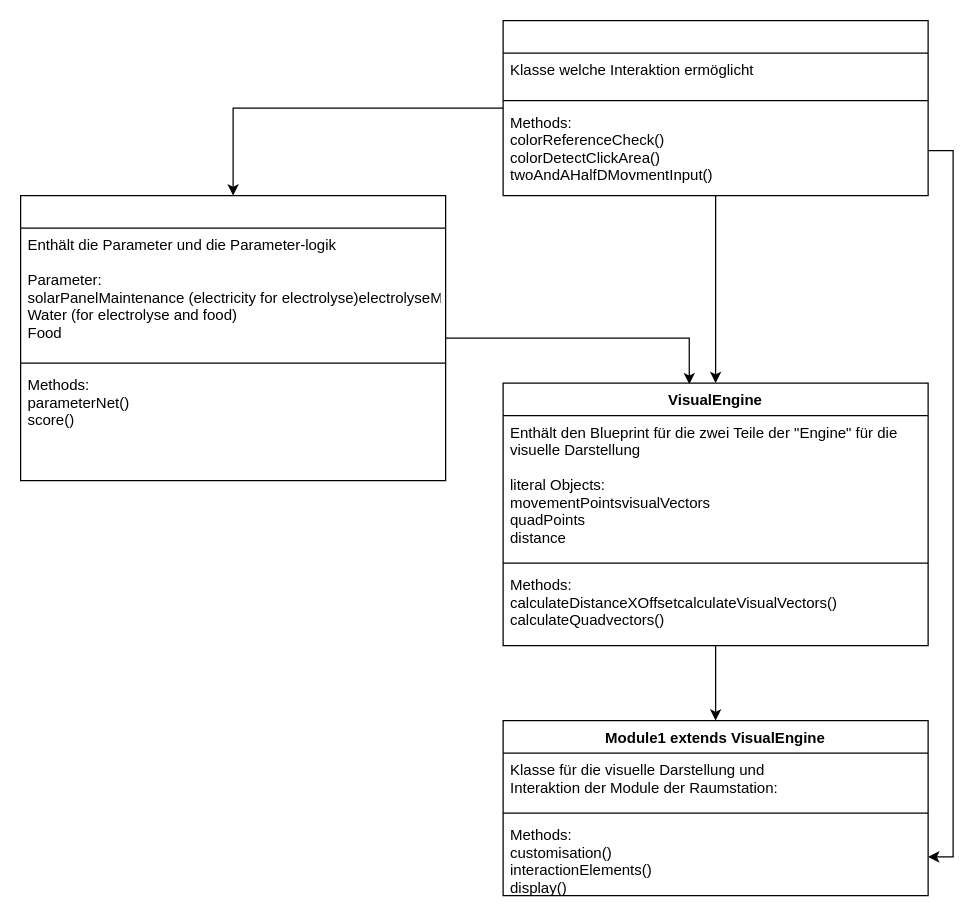
This 974x916 diagram has some shape labels left out. Here are the shapes that lost their labels. From the top down, the box of each, then its label:
(502, 19, 928, 196): Interaction
(19, 194, 446, 481): ParameterEngine
